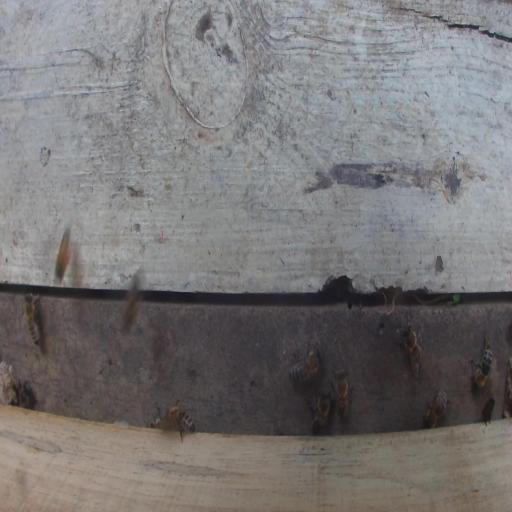nonpollenbee: (289, 340, 321, 385), (399, 320, 423, 378), (469, 333, 492, 390), (308, 384, 333, 434), (164, 404, 196, 443), (423, 389, 451, 428), (23, 292, 42, 347), (334, 367, 351, 422), (481, 396, 495, 425), (19, 381, 34, 408)
pollenbee: (54, 222, 74, 285)
